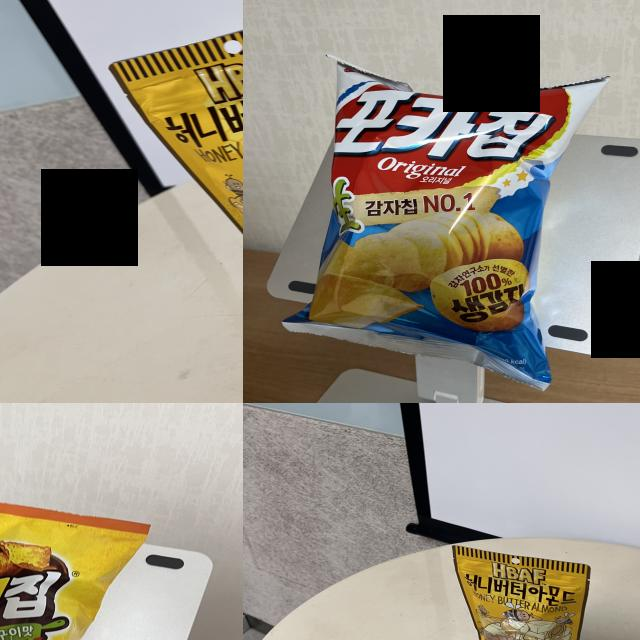honeyAmond: (133, 11, 243, 289), (464, 558, 587, 640)
pokaChip: (308, 52, 586, 388)
